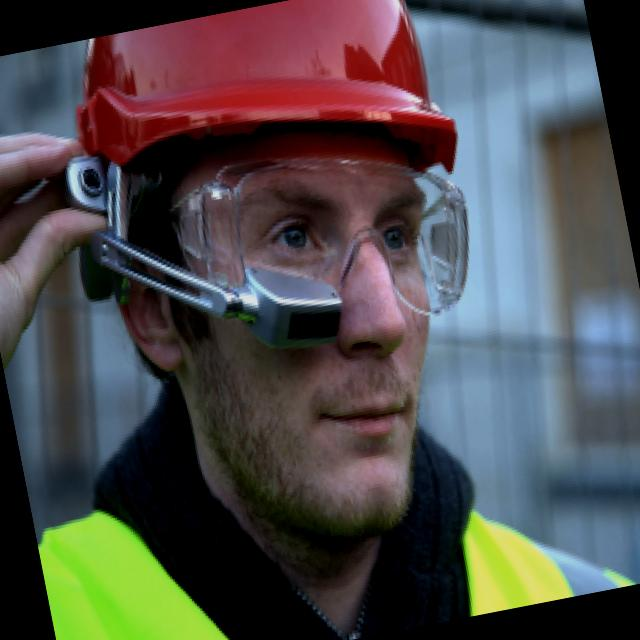goggles: (131, 128, 506, 354)
helmet: (38, 0, 463, 221)
vest: (29, 390, 630, 640)
